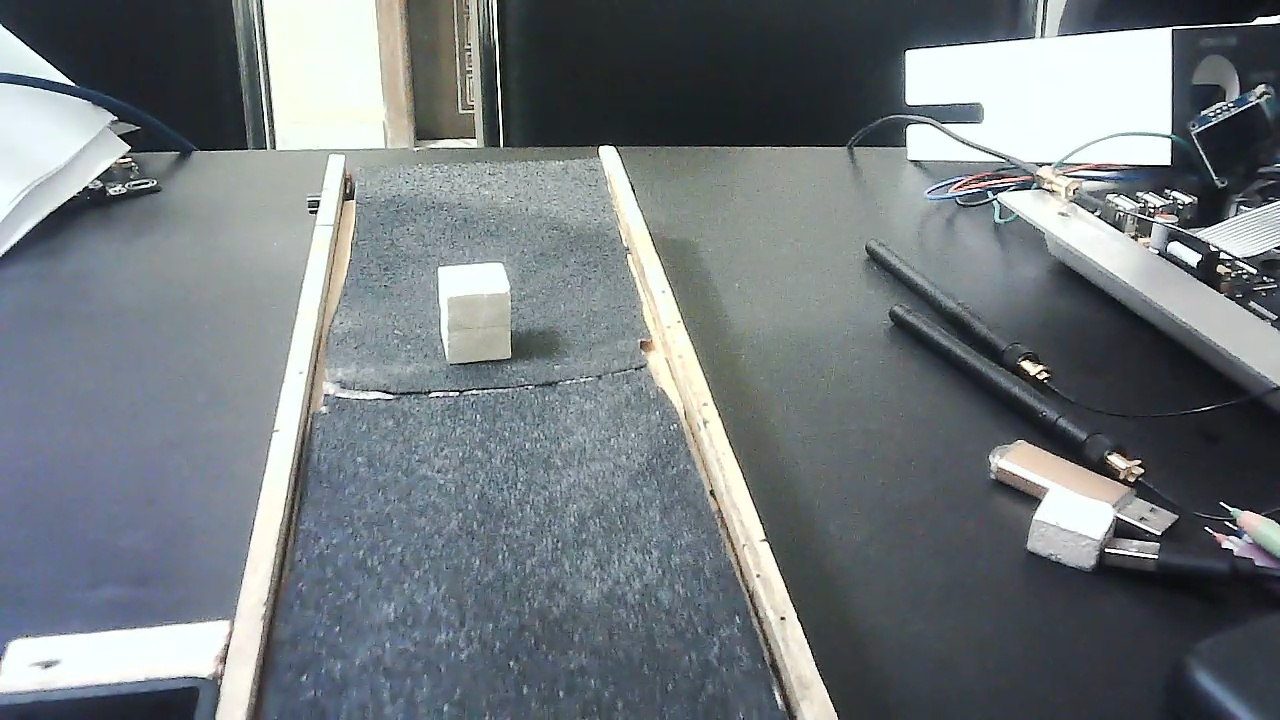Small: (427, 260, 528, 361)
